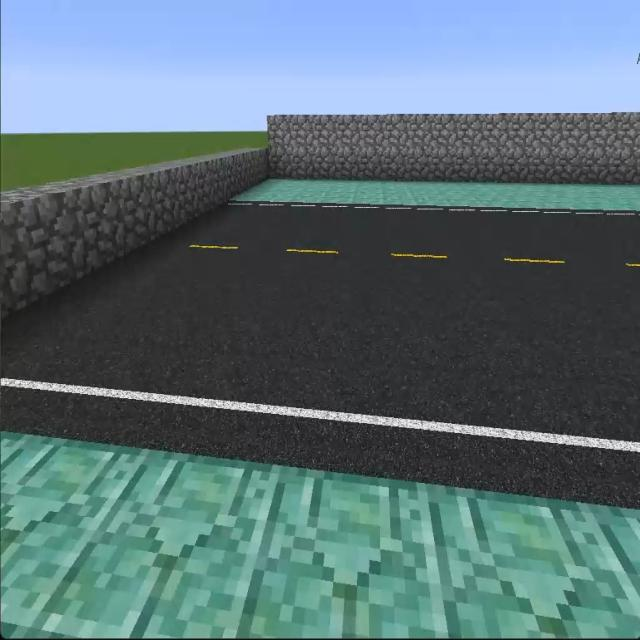road: (7, 202, 639, 483)
sidewalk: (0, 431, 639, 639), (237, 178, 639, 210)
